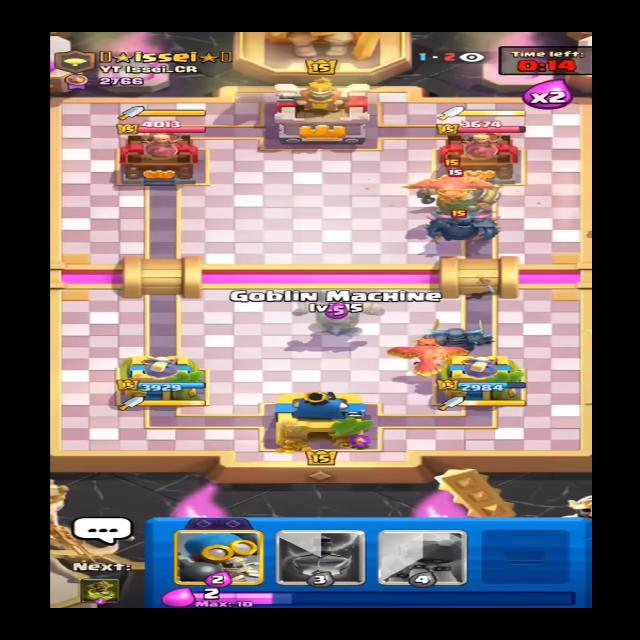Goblinmachine: (412, 176, 509, 216)
Pekka: (423, 203, 499, 244)
Pheonix: (407, 159, 502, 204)
